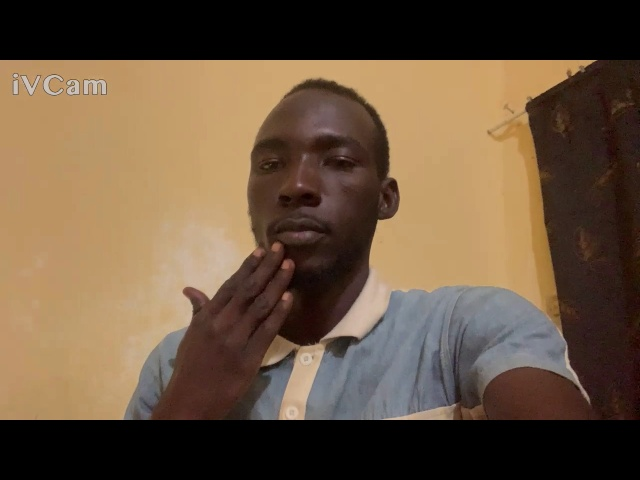merci: (159, 240, 304, 420)
